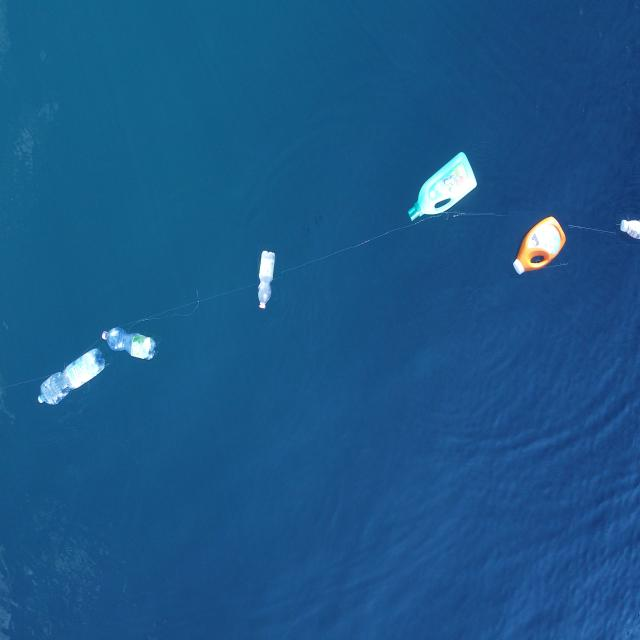bottles: (404, 146, 482, 226), (32, 345, 108, 413), (509, 211, 568, 278), (97, 316, 160, 366), (256, 244, 280, 317), (616, 214, 640, 244)
